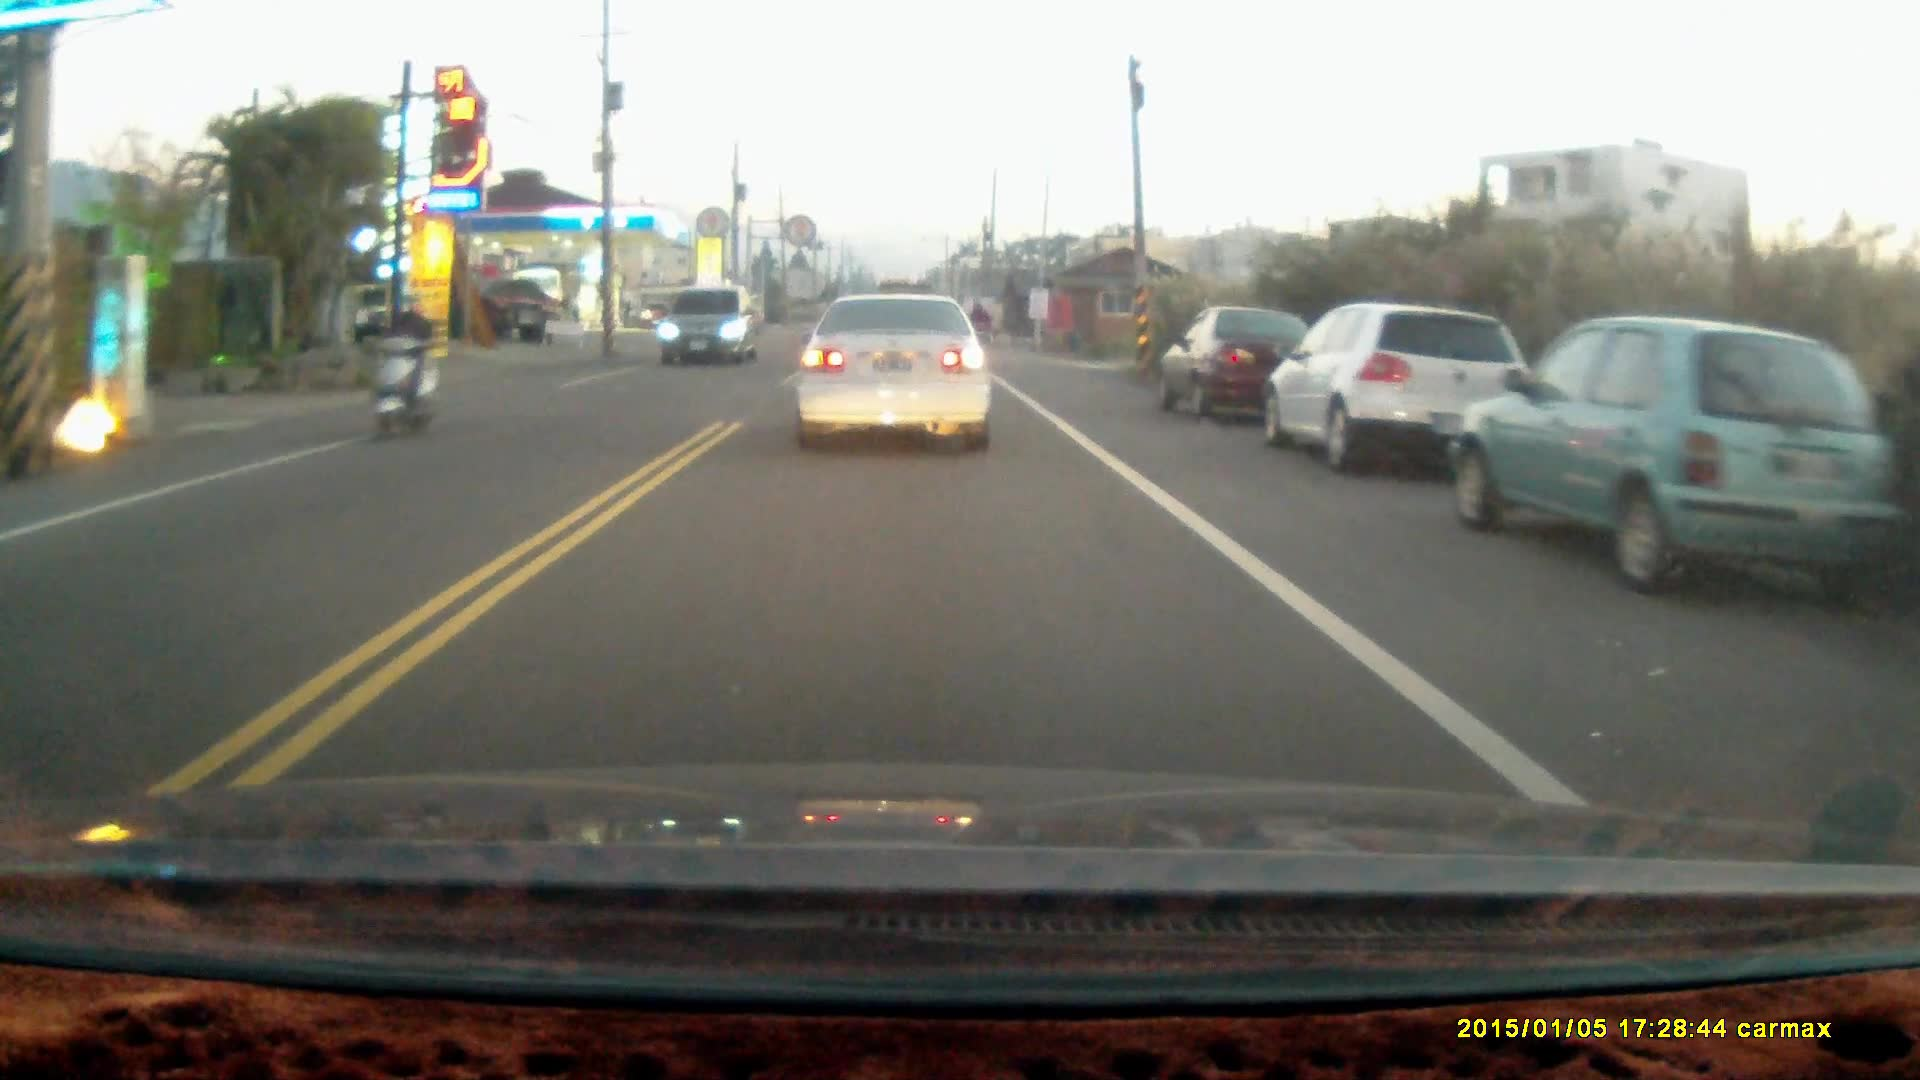rider: (362, 286, 441, 443)
vehicle: (1449, 321, 1878, 602), (1268, 302, 1530, 478), (794, 288, 996, 453), (1160, 308, 1323, 426), (656, 288, 760, 370)
